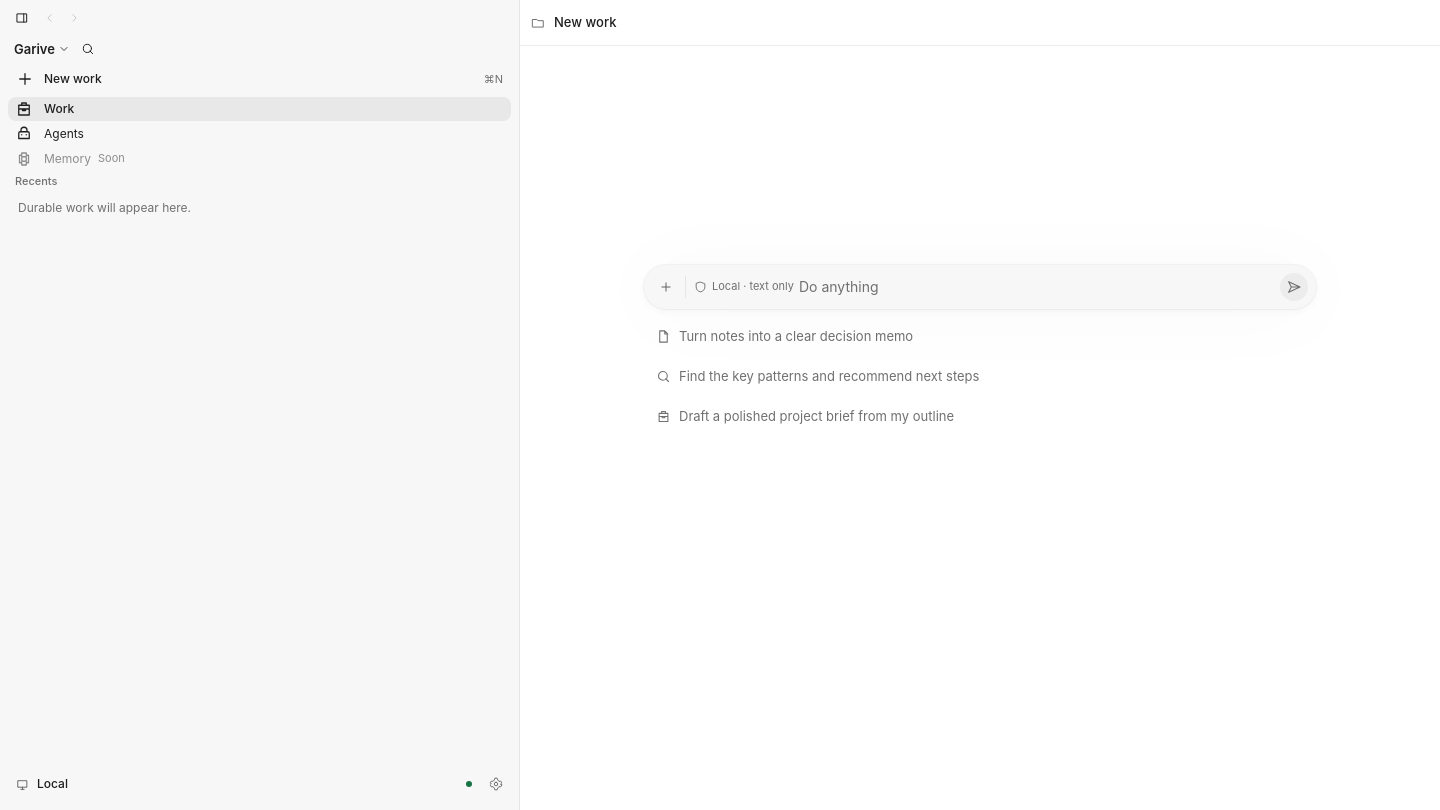
Desktop product experience › renders fenced output as a labeled copyable workbench block
Click the button "Turn notes into a clear decision memo" at (796, 336), box [644, 317, 1316, 357]
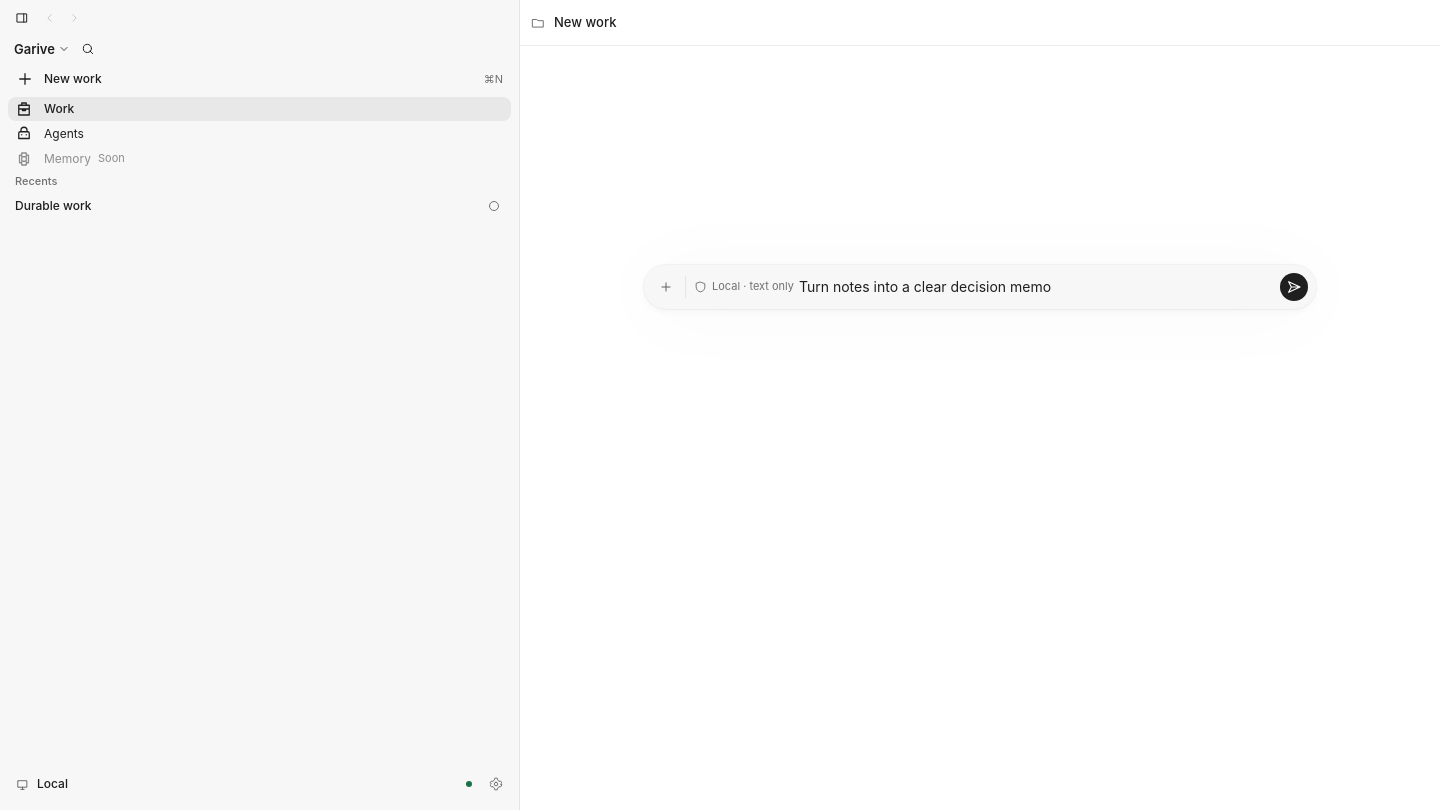
expect the button named "Send work" is enabled: met
Click the button named "Send work" at (1294, 287), box [1280, 273, 1308, 301]
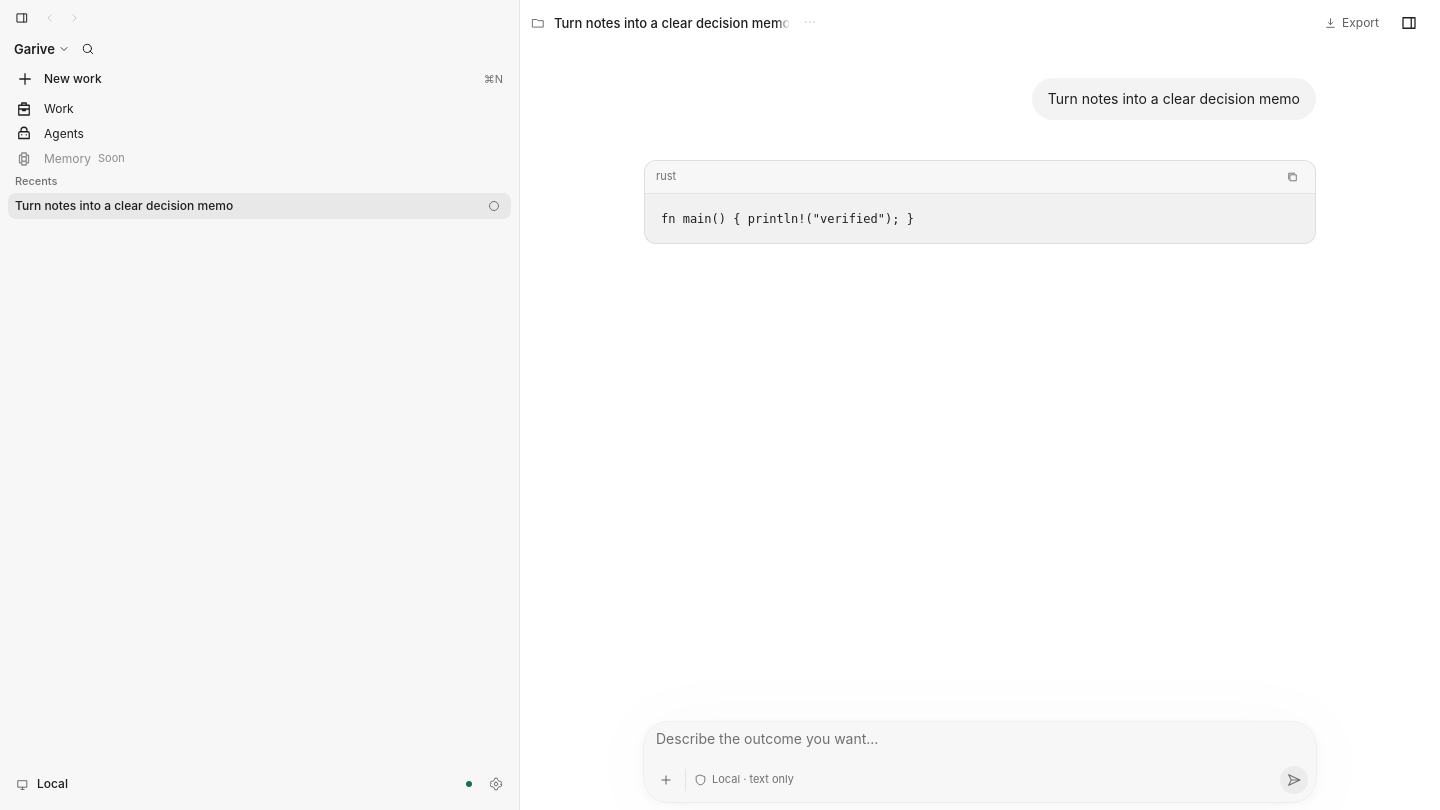
expect the element named "Code block" shows "rust": met, box [656, 169, 676, 183]
expect the element named "Code block" shows "println!": met, box [661, 212, 914, 226]
Click the button named "Copy code" at (1292, 177), box [1276, 161, 1308, 193]
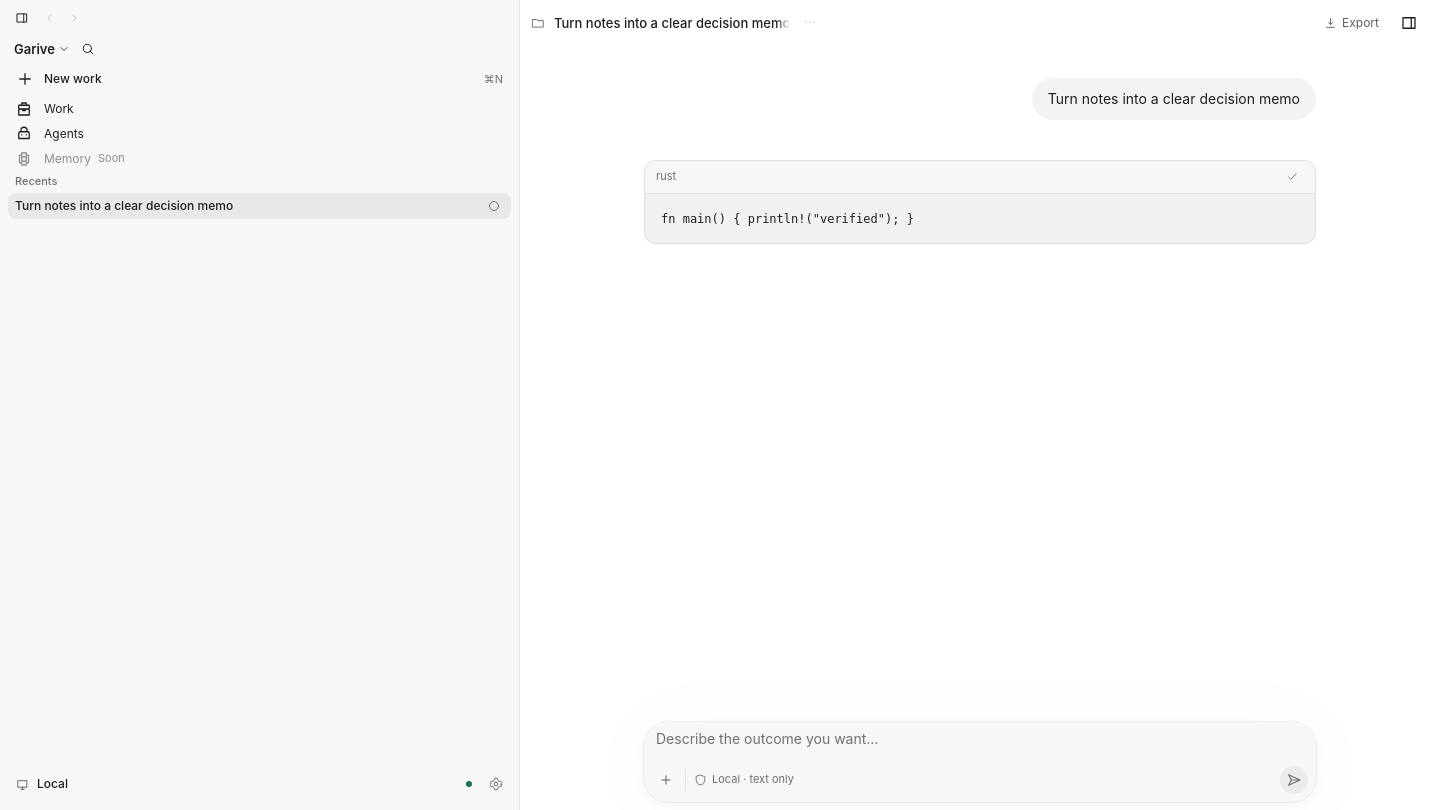
expect the button named "Code copied" is shown: met, box [1276, 161, 1308, 193]
